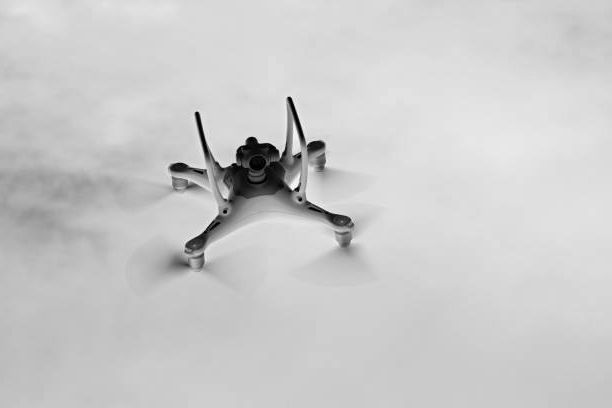Drone: (120, 91, 378, 290)
